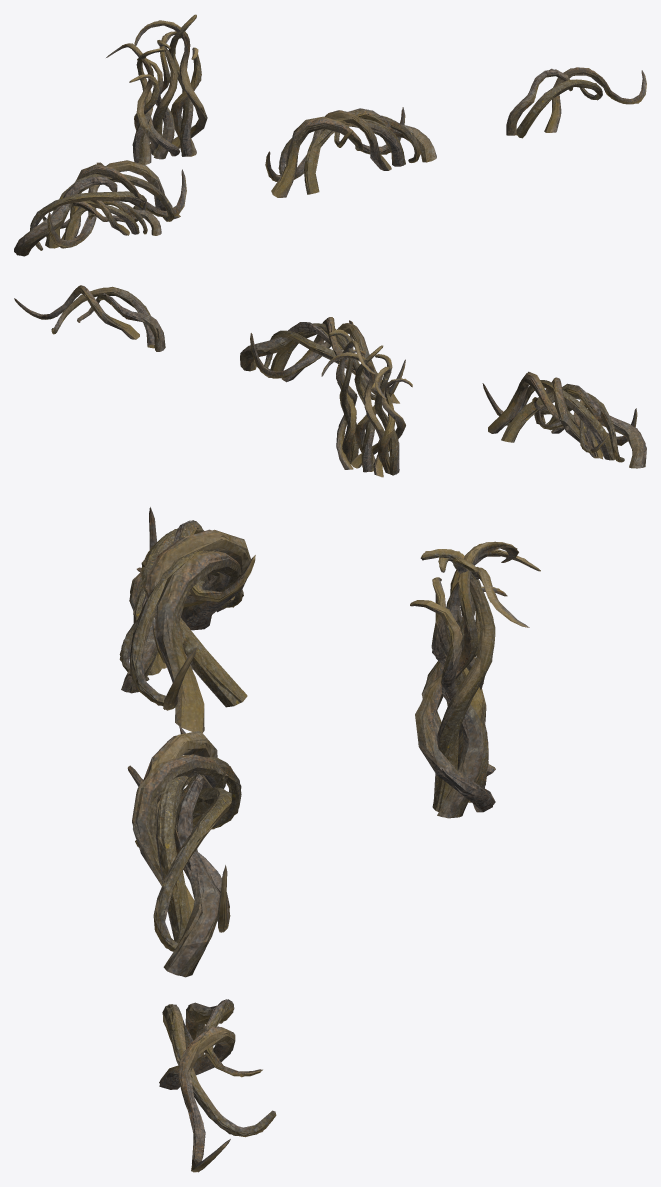
The model's file is Curled_Roots_1A.fbx.
3 views of the same model, one above another, from view 1: azimuth 30°, elevation 25°; view 2: azimuth 150°, elevation 25°; view 3: azimuth 270°, elevation 25° (orthographic). The views are drawn at different scales.
Parts seen in each view (by area): view 1: Curled_Roots_1A3, Curled_Roots_1A4, Curled_Roots_1A2, Curled_Roots_1A3.001, Curled_Roots_1A4.001, Curled_Roots_1A3.002, Curled_Roots_1A2.001, Curled_Roots_1A4.002, Curled_Roots_1A1, Curled_Roots_1A2.002, Curled_Roots_1A1.001, Curled_Roots_1A1.002; view 2: Curled_Roots_1A4, Curled_Roots_1A3, Curled_Roots_1A4.001, Curled_Roots_1A3.001, Curled_Roots_1A2, Curled_Roots_1A3.002, Curled_Roots_1A4.002, Curled_Roots_1A2.001, Curled_Roots_1A1, Curled_Roots_1A2.002, Curled_Roots_1A1.001, Curled_Roots_1A1.002; view 3: Curled_Roots_1A3, Curled_Roots_1A2, Curled_Roots_1A4, Curled_Roots_1A4.001, Curled_Roots_1A2.001, Curled_Roots_1A3.001, Curled_Roots_1A2.002, Curled_Roots_1A3.002, Curled_Roots_1A1, Curled_Roots_1A4.002, Curled_Roots_1A1.001, Curled_Roots_1A1.002.
Part boxes in pixels (x1,y1,x2,y2): Curled_Roots_1A3: (14, 160, 186, 256); Curled_Roots_1A4: (106, 14, 207, 164); Curled_Roots_1A2: (265, 107, 436, 197); Curled_Roots_1A3.001: (14, 160, 186, 253); Curled_Roots_1A4.001: (111, 14, 207, 164); Curled_Roots_1A3.002: (16, 162, 186, 255); Curled_Roots_1A2.001: (265, 107, 435, 197); Curled_Roots_1A4.002: (111, 17, 206, 163); Curled_Roots_1A1: (506, 67, 646, 135); Curled_Roots_1A2.002: (266, 108, 436, 197); Curled_Roots_1A1.001: (506, 68, 646, 138); Curled_Roots_1A1.002: (508, 67, 644, 136); Curled_Roots_1A4: (321, 330, 412, 476); Curled_Roots_1A3: (482, 372, 646, 468); Curled_Roots_1A4.001: (324, 330, 411, 477); Curled_Roots_1A3.001: (483, 375, 645, 468); Curled_Roots_1A2: (240, 317, 405, 402); Curled_Roots_1A3.002: (489, 371, 646, 468); Curled_Roots_1A4.002: (325, 329, 407, 477); Curled_Roots_1A2.001: (240, 317, 405, 399); Curled_Roots_1A1: (14, 285, 164, 351); Curled_Roots_1A2.002: (240, 318, 402, 403); Curled_Roots_1A1.001: (18, 285, 164, 351); Curled_Roots_1A1.002: (24, 285, 165, 351); Curled_Roots_1A3: (120, 507, 255, 732); Curled_Roots_1A2: (127, 725, 241, 976); Curled_Roots_1A4: (410, 542, 540, 816); Curled_Roots_1A4.001: (410, 542, 540, 817); Curled_Roots_1A2.001: (130, 726, 241, 976); Curled_Roots_1A3.001: (119, 508, 255, 732); Curled_Roots_1A2.002: (133, 731, 241, 977); Curled_Roots_1A3.002: (119, 517, 250, 732); Curled_Roots_1A1: (159, 999, 276, 1172); Curled_Roots_1A4.002: (411, 541, 527, 818); Curled_Roots_1A1.001: (159, 999, 275, 1171); Curled_Roots_1A1.002: (159, 1002, 276, 1172).
Bounding box in the file's own units: 2747 × 561 × 804.
